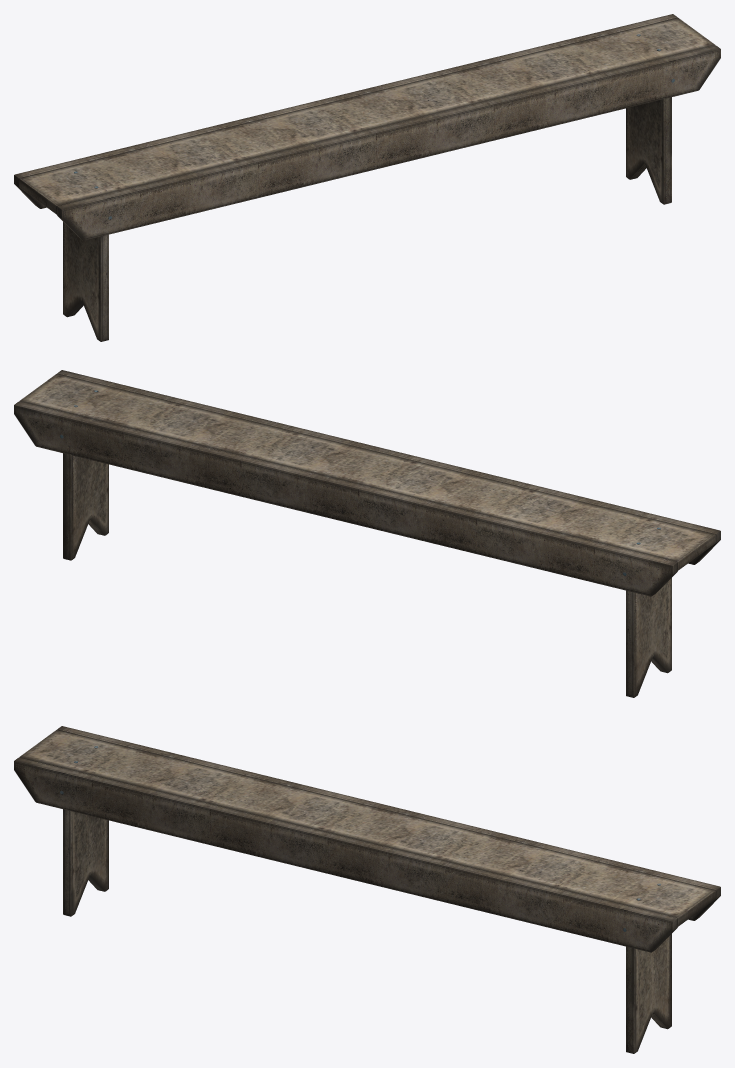
The model's file is Vintage_Bench.glb.
3 views of the same model, one above another, from view 1: azimuth 30°, elevation 25°; view 2: azimuth 150°, elevation 25°; view 3: azimuth 330°, elevation 25° (orthographic).
Visible parts, largest first — view 1: Vintage_bench_mesh; view 2: Vintage_bench_mesh; view 3: Vintage_bench_mesh.
Boxes of the visible parts, left/top/right/bottom form: Vintage_bench_mesh: left=14, top=14, right=720, bottom=341; Vintage_bench_mesh: left=14, top=370, right=720, bottom=697; Vintage_bench_mesh: left=14, top=726, right=720, bottom=1053.
Size of the model in its own units: 1.5 by 0.3208 by 0.1907.
Materials: 1 (1 with a texture image).
